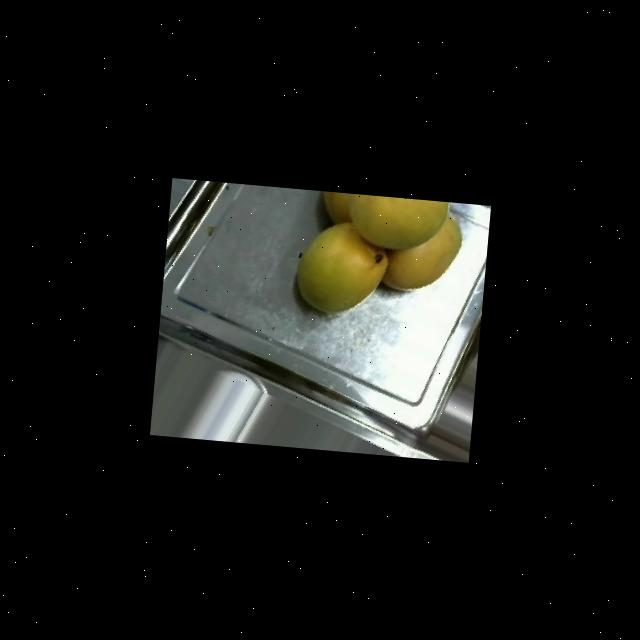Mango: (292, 217, 390, 318), (380, 208, 464, 294), (344, 193, 448, 254)
